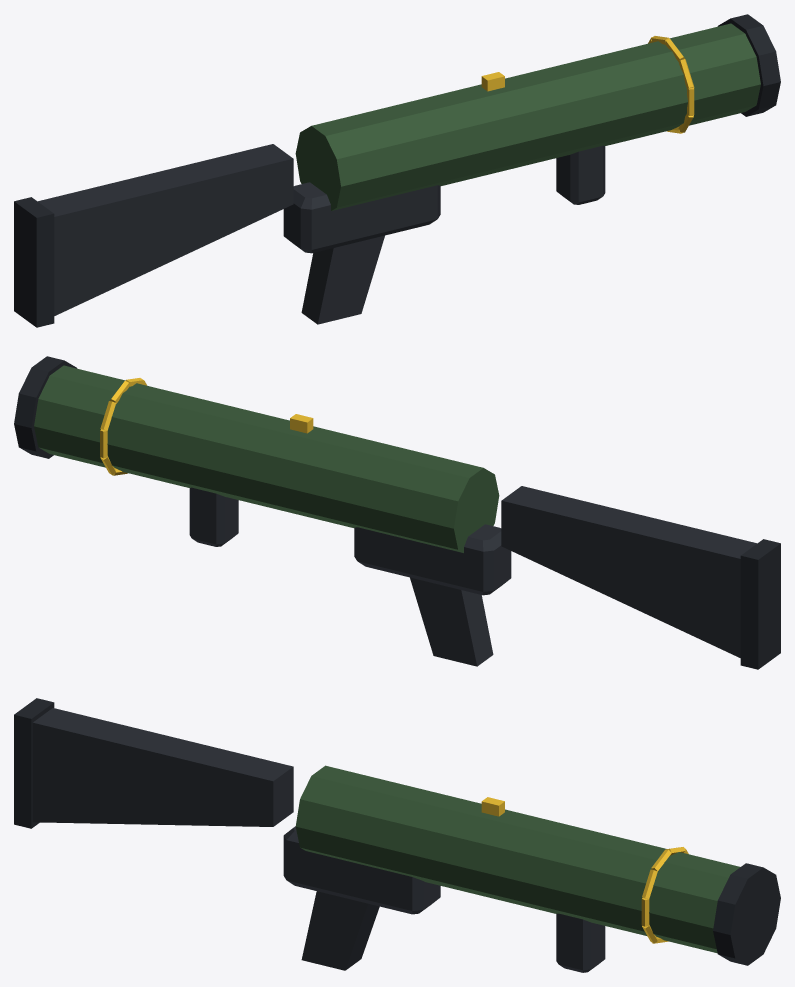
The model's file is paint_grenade_launcher.glb.
3 views of the same model, one above another, from view 1: azimuth 30°, elevation 25°; view 2: azimuth 150°, elevation 25°; view 3: azimuth 330°, elevation 25° (orthographic).
Visible parts, largest first — view 1: paint_grenade_launcher; view 2: paint_grenade_launcher; view 3: paint_grenade_launcher.
Boxes of the visible parts, box(x1,y1,x2,y2) form: paint_grenade_launcher: box(14, 14, 780, 327); paint_grenade_launcher: box(14, 356, 780, 669); paint_grenade_launcher: box(14, 698, 780, 972).
Size of the model in its own units: 0.835 by 0.216 by 0.1.
